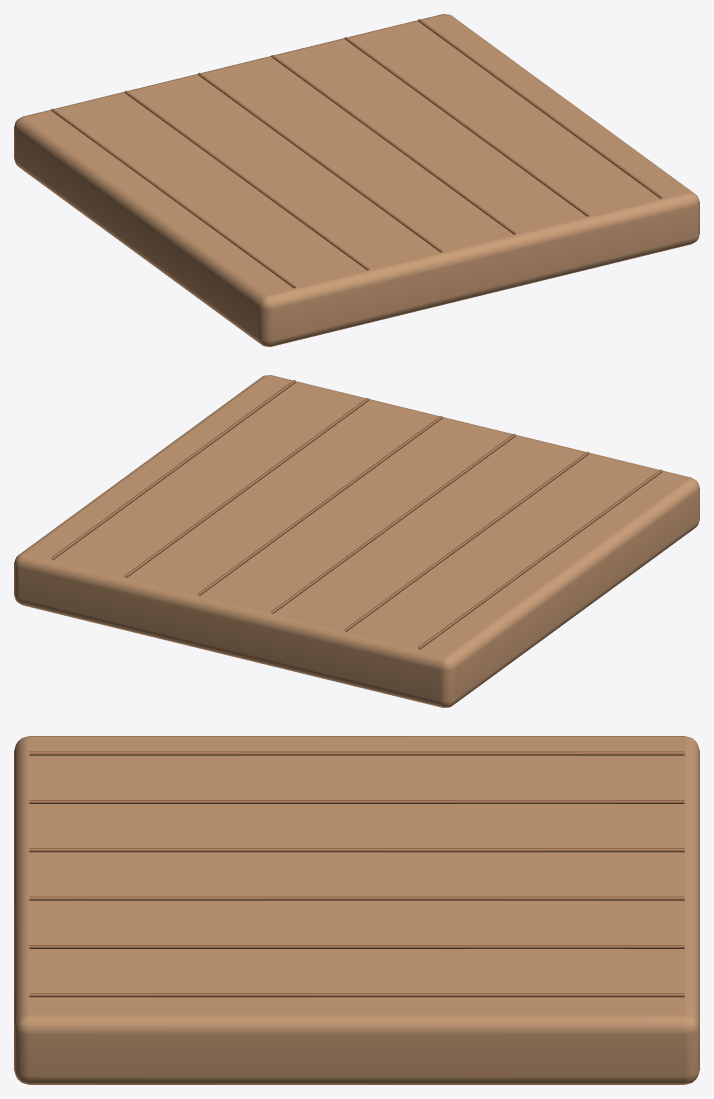
Rendered from floor_wood.glb.
The picture shows the model from 3 angles, top to bottom: view 1: azimuth 30°, elevation 25°; view 2: azimuth 150°, elevation 25°; view 3: azimuth 270°, elevation 25°; orthographic projection. The views are drawn at different scales.
Visible parts, largest first — view 1: Body_cedar, Body_wood; view 2: Body_cedar, Body_wood; view 3: Body_cedar, Body_wood.
Part boxes in pixels (box(x1,y1,x2,y2)): Body_cedar: box(14, 14, 699, 346); Body_wood: box(51, 19, 662, 288); Body_cedar: box(14, 375, 699, 707); Body_wood: box(51, 380, 662, 649); Body_cedar: box(14, 736, 699, 1084); Body_wood: box(29, 751, 684, 997).
Bounding box in the file's own units: 1.8 × 0.208 × 1.8.
